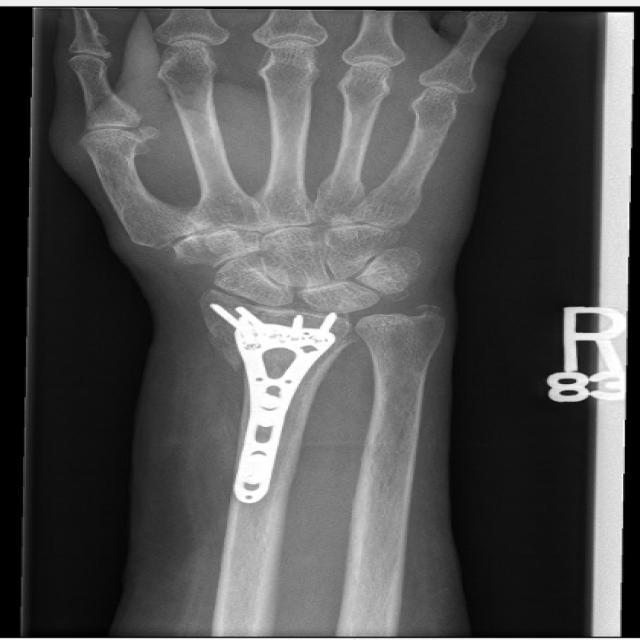x-ray: (200, 296, 352, 515)
